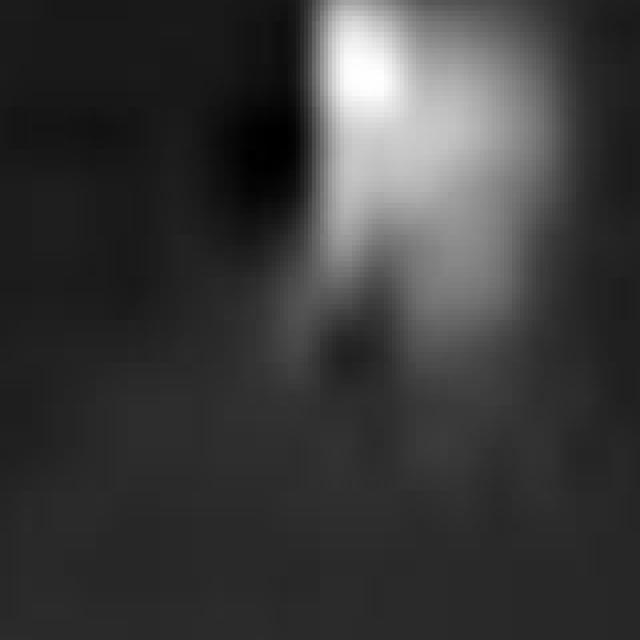person: (269, 1, 541, 401)
